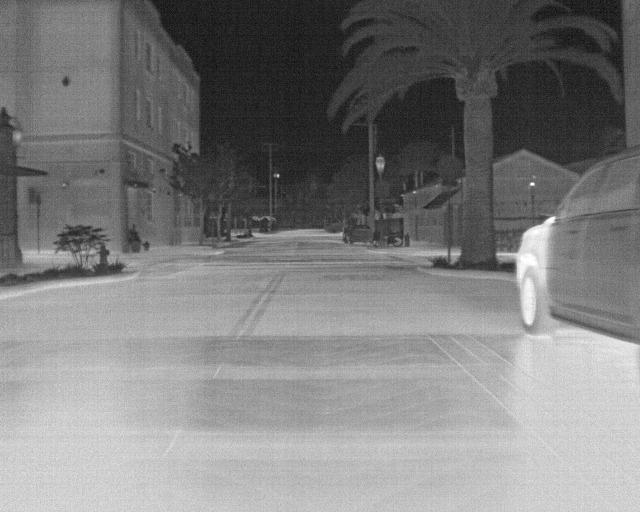bicycle: (390, 233, 404, 248), (372, 234, 385, 248)
car: (514, 142, 639, 349), (341, 223, 372, 245)
